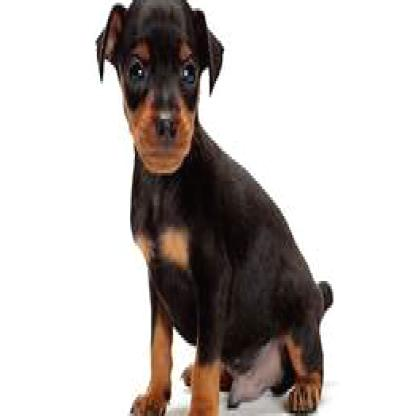dog: (93, 0, 340, 414)
